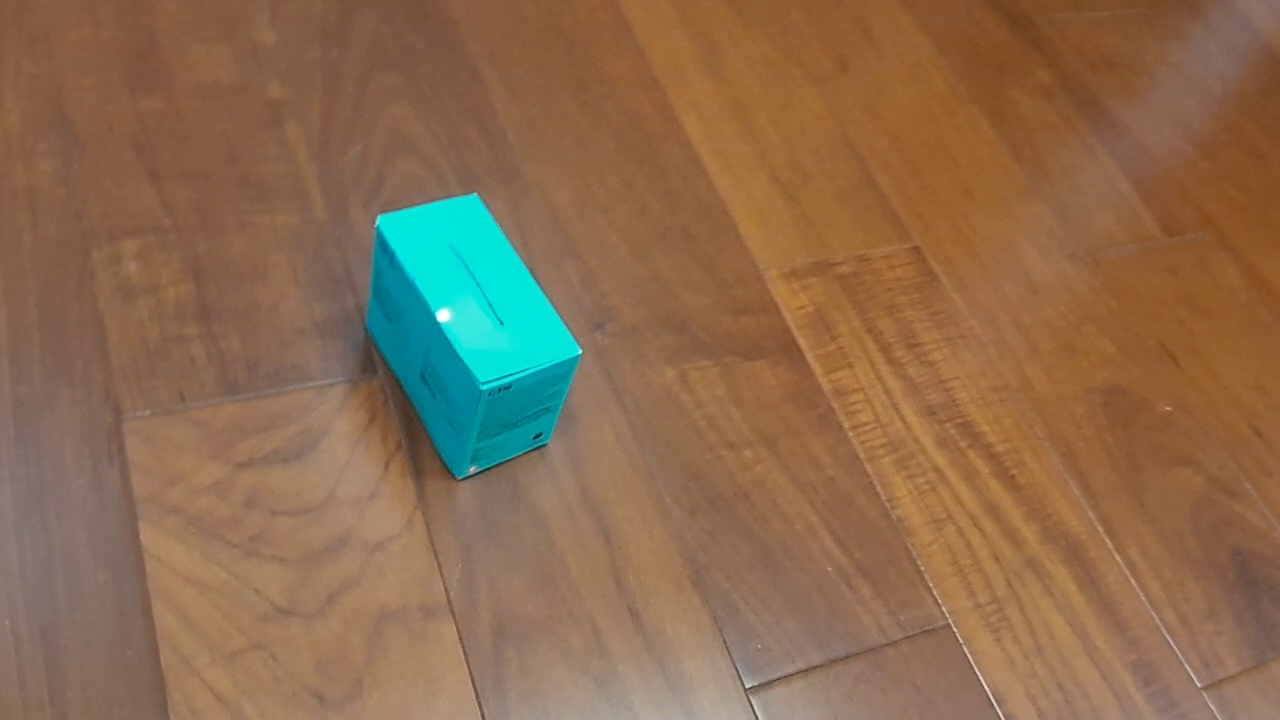webcam: (364, 192, 583, 481)
